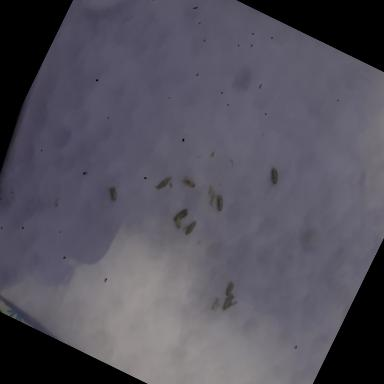pbw: (263, 161, 284, 186), (220, 292, 240, 314), (154, 172, 174, 194), (173, 204, 190, 224), (211, 193, 227, 212), (104, 184, 120, 202), (182, 218, 196, 237), (172, 213, 186, 229), (180, 176, 196, 189), (223, 280, 235, 296)
